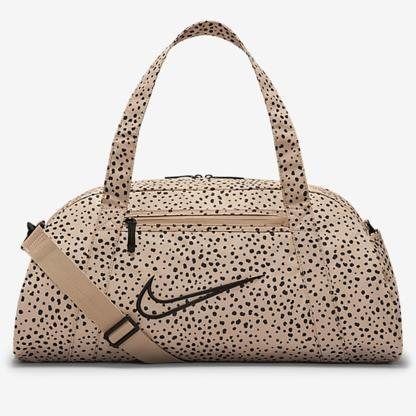not trash: (15, 21, 407, 370)
